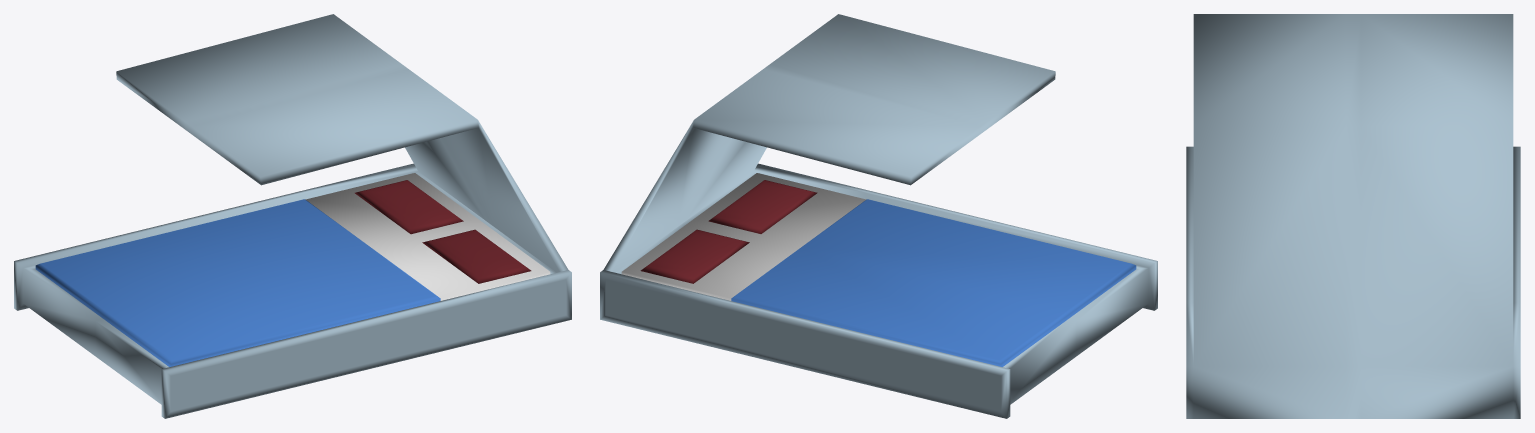
The model's file is bed(1).fbx.
3 renders of one model, left to right at view 1: azimuth 30°, elevation 25°; view 2: azimuth 150°, elevation 25°; view 3: azimuth 270°, elevation 25°, orthographic. The views are drawn at different scales.
Visible parts, largest first — view 1: Cube; view 2: Cube; view 3: Cube.
Boxes of the visible parts, x1=… form: Cube: x1=14, y1=14, x2=571, y2=418; Cube: x1=600, y1=14, x2=1157, y2=418; Cube: x1=1186, y1=14, x2=1520, y2=418.
Size of the model in its own units: 613 by 317 by 394.
